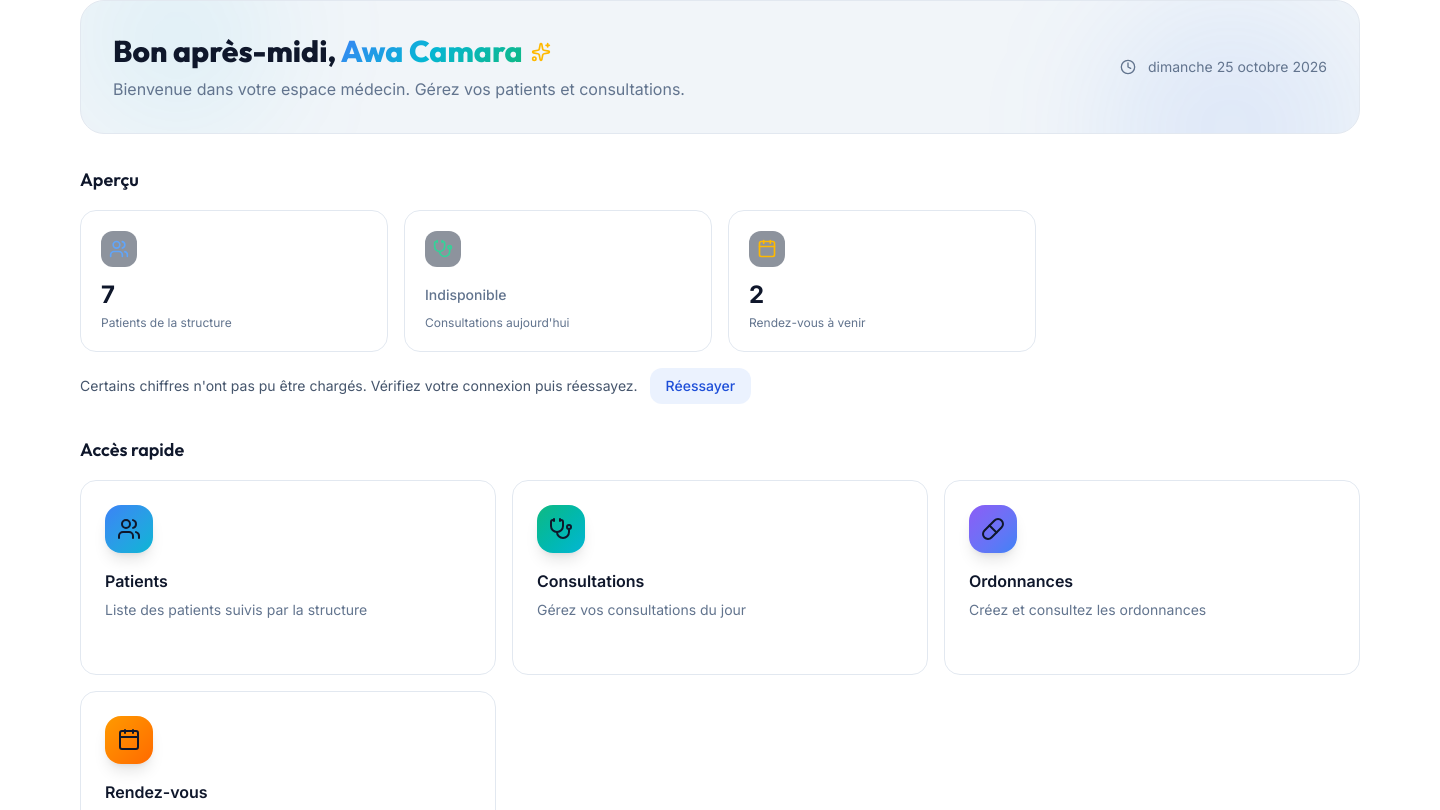
Scenario: Aperçu du tableau de bord › signale une carte indisponible puis la recharge au clic sur Réessayer
Expected: the text "Indisponible" is shown, top-left (425, 286), bottom-right (506, 303)
Expected: the text "Certains chiffres n'ont pas pu être chargés. Vérifiez votre connexion puis réessayez." is shown, top-left (80, 377), bottom-right (638, 394)
What coordinates should you click on to do the following:
click the button "Réessayer"
I would click on:
 (700, 386)
Its box is top-left (650, 368), bottom-right (751, 404).
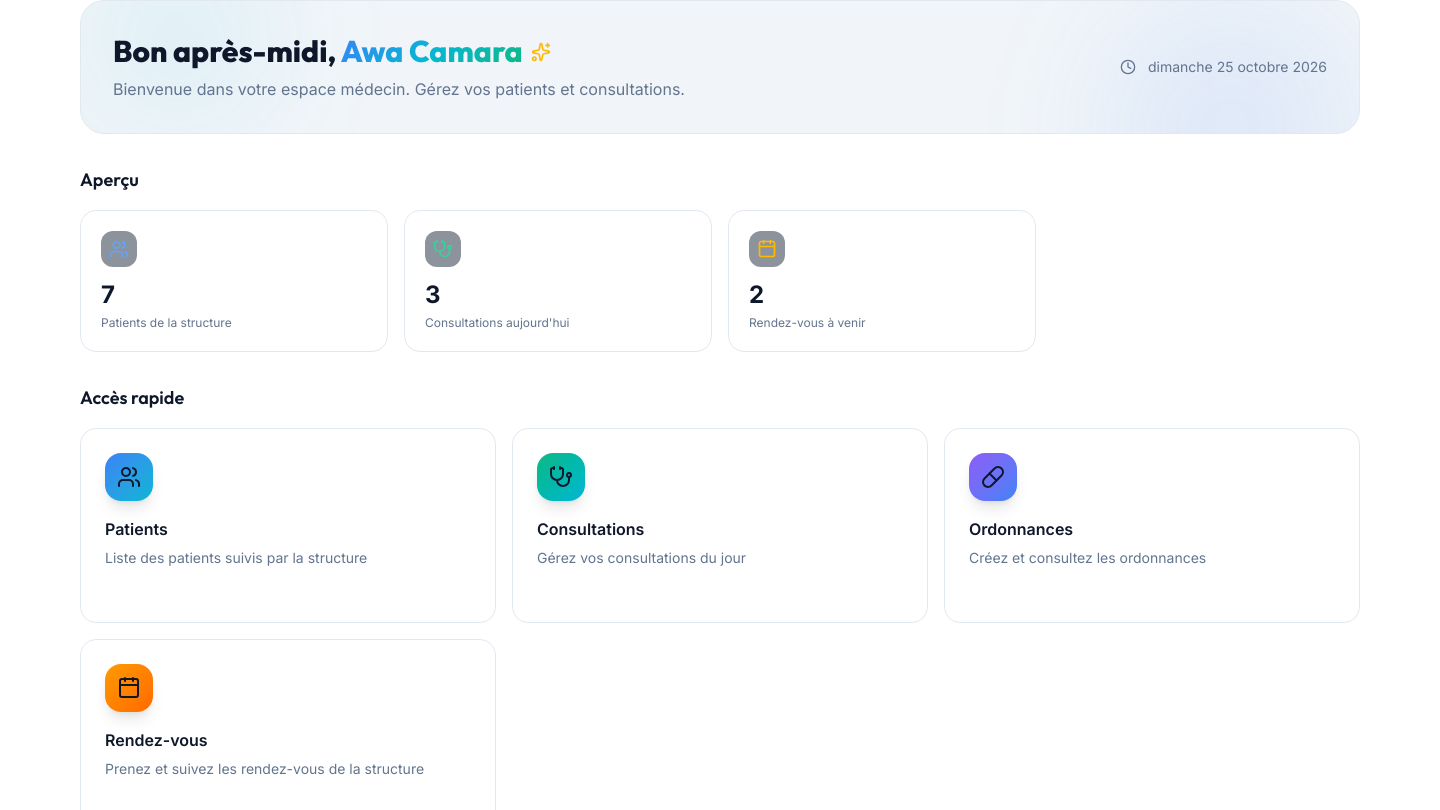
Expected: the text "7" is shown, top-left (101, 280), bottom-right (115, 309)
Expected: the text "3" is shown, top-left (425, 280), bottom-right (440, 309)
Expected: the text "Certains chiffres n'ont pas pu être chargés. Vérifiez votre connexion puis réessayez." is gone
